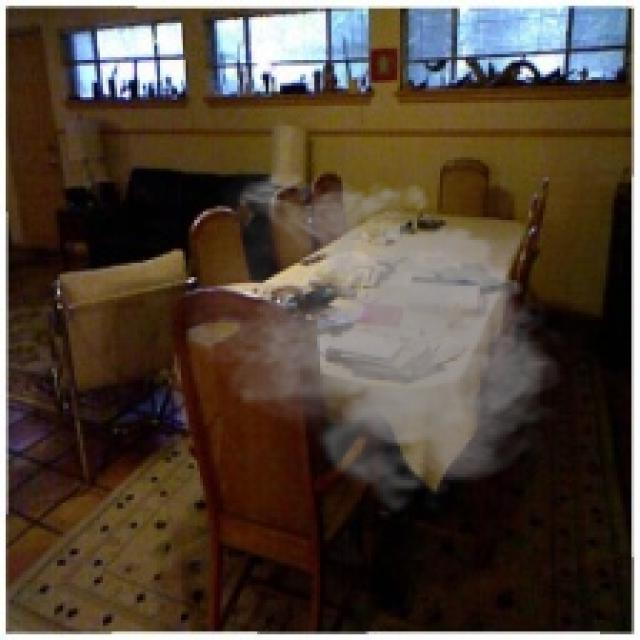Smoke: (172, 162, 574, 514)
